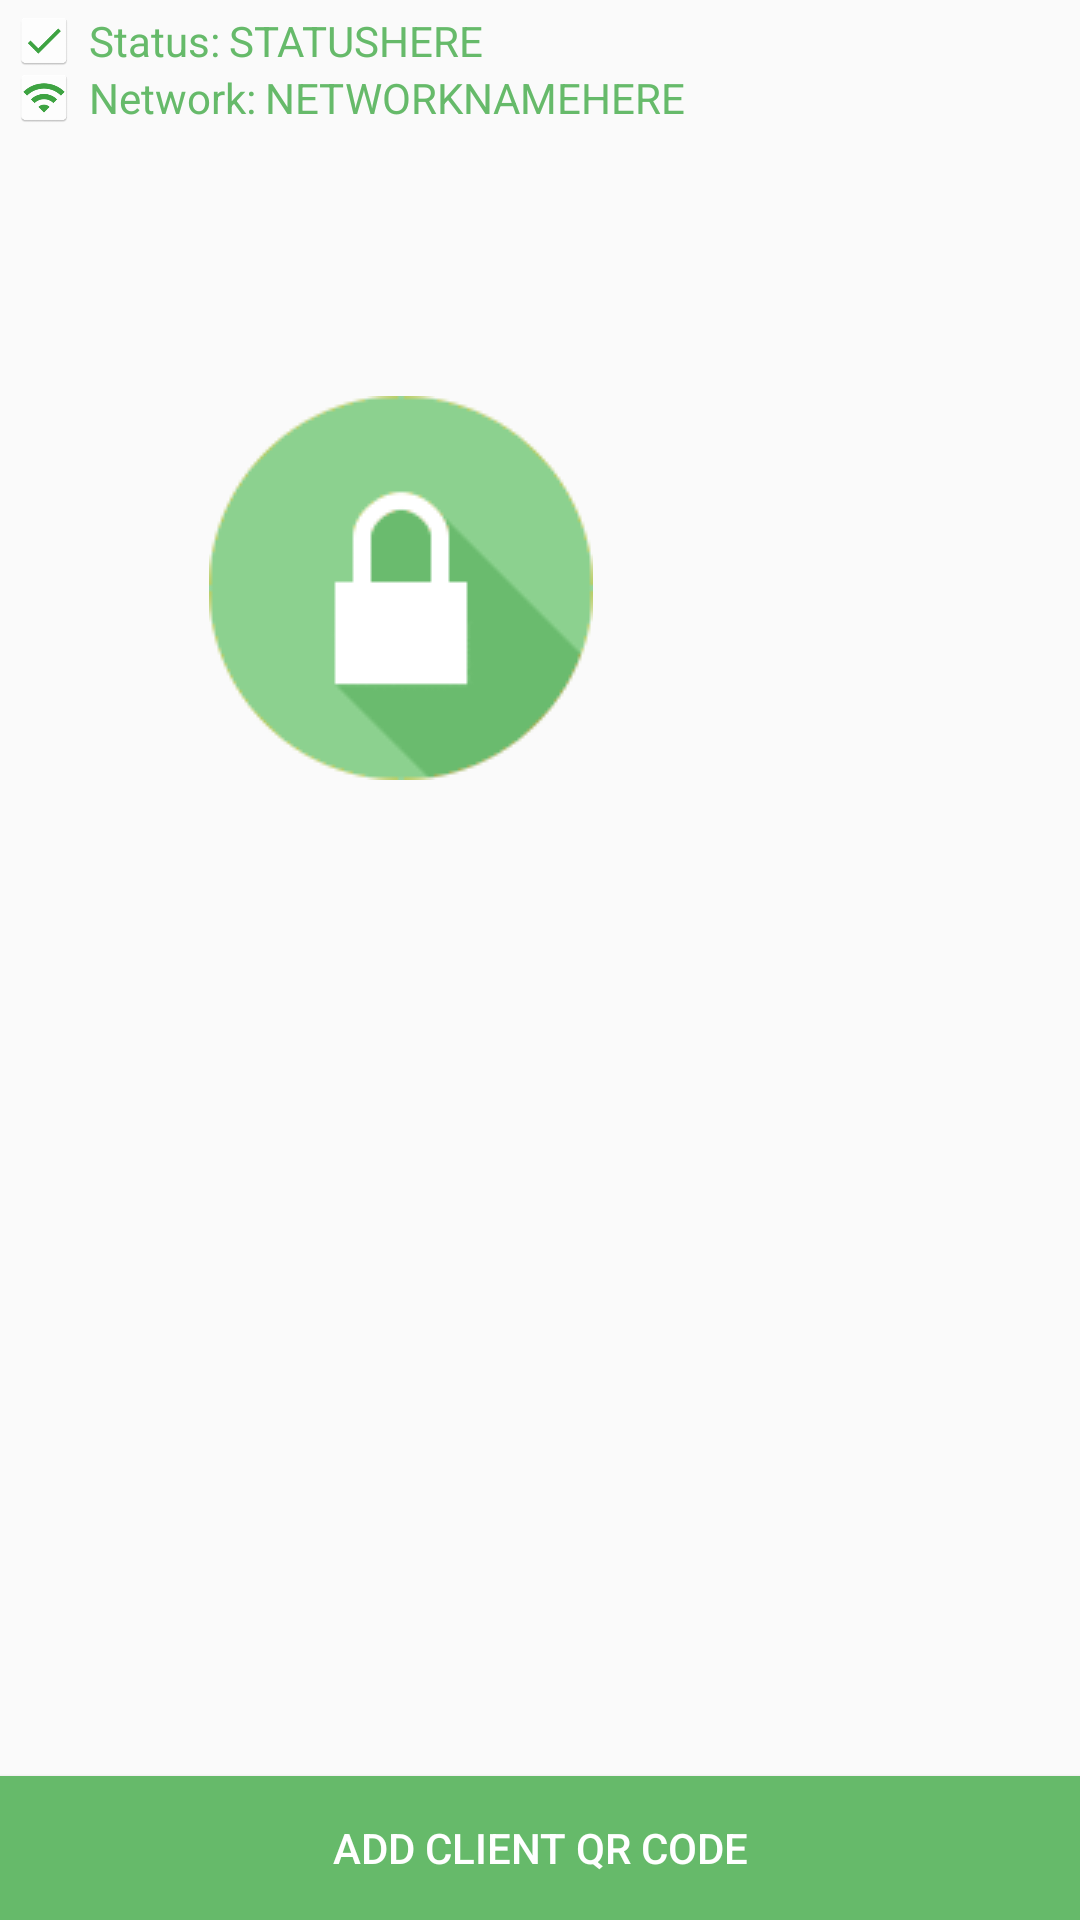

Where to tap for icons on this 1080×1920 app screen, as (x,y):
check: (44,43)
wifi: (44,100)
